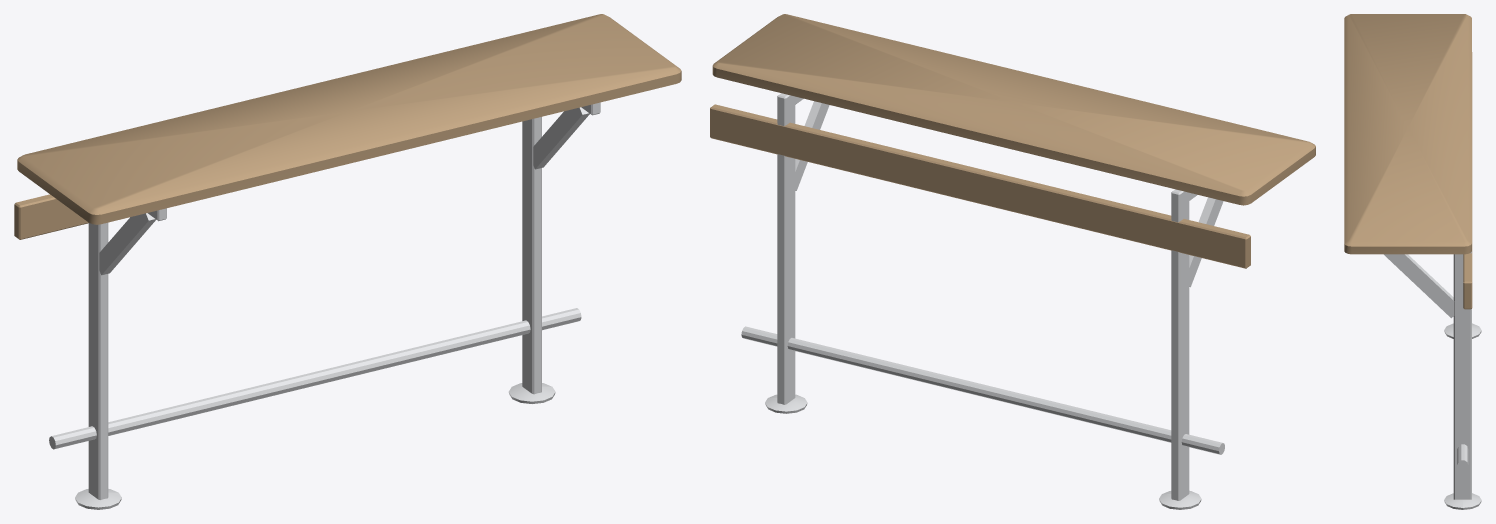
Rendered from bakery-and-cafe-window-bar-counter-eea16a11__22213.glb.
3 views of the same model, side by side, from view 1: azimuth 30°, elevation 25°; view 2: azimuth 150°, elevation 25°; view 3: azimuth 270°, elevation 25° (orthographic). The views are drawn at different scales.
Parts seen in each view (by area): view 1: window-bar-counter; view 2: window-bar-counter; view 3: window-bar-counter.
Part boxes in pixels (left/top/right/bottom): window-bar-counter: left=14, top=14, right=681, bottom=509; window-bar-counter: left=710, top=14, right=1315, bottom=509; window-bar-counter: left=1344, top=14, right=1481, bottom=509.
Size of the model in its own units: 1.8 by 1.05 by 0.452.
